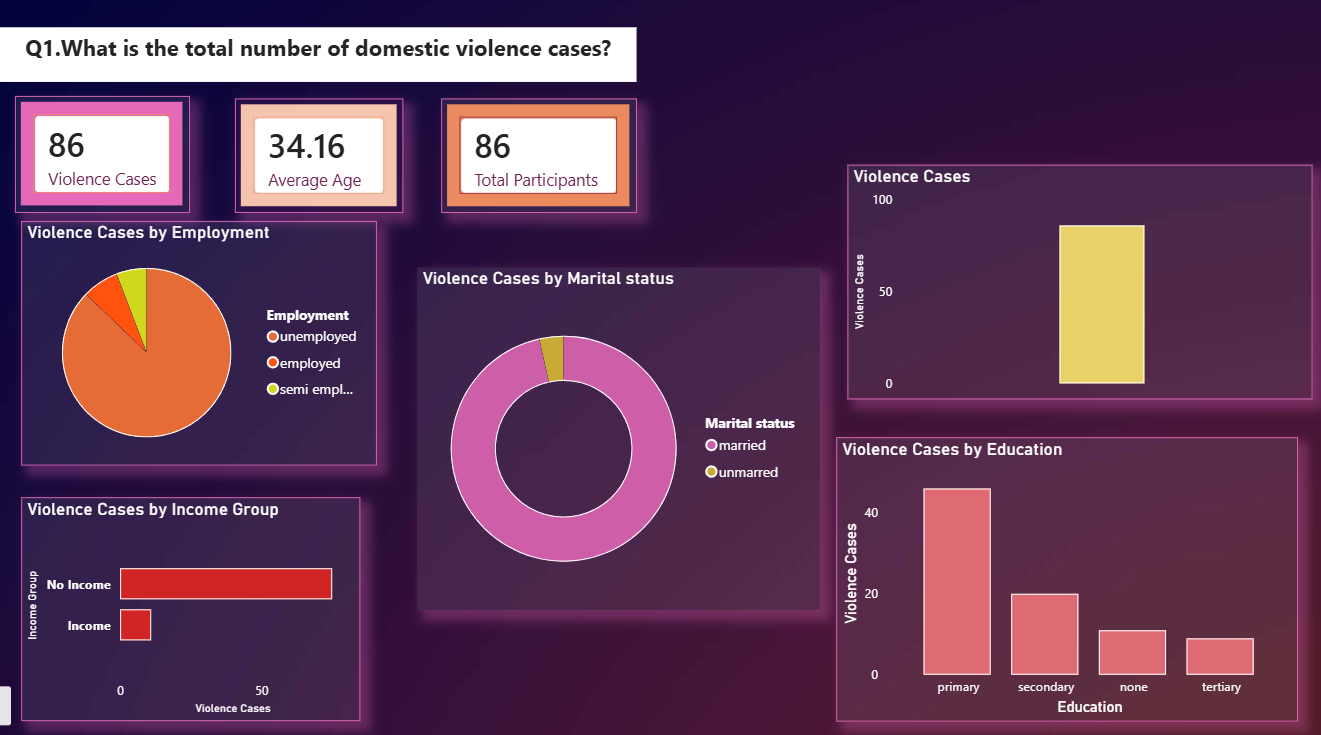

This screenshot's page, from the dashboard's own definition file:
{"tool":"powerbi","page":{"name":"Page 1","canvas":[1280,720],"ordinal":0},"visuals":[{"type":"textbox","box":[0,30,614.3,52.9],"z":0},{"type":"cardVisual","fields":{"Data":["Domestic violence.Violence Cases"]},"box":[15,96.2,168.8,112.5],"z":1},{"type":"columnChart","fields":{"Y":["Domestic violence.Violence Cases"]},"box":[817.8,163.3,448.7,226.4],"z":2},{"type":"clusteredColumnChart","fields":{"Category":["Domestic violence.Education "],"Y":["Domestic violence.Violence Cases"]},"box":[806.9,425.4,446,274.4],"z":3},{"type":"pieChart","fields":{"Category":["Domestic violence.Employment "],"Y":["Domestic violence.Violence Cases"]},"box":[20,217.1,342.9,235.7],"z":4},{"type":"donutChart","fields":{"Category":["Domestic violence.Marital status "],"Y":["Domestic violence.Violence Cases"]},"box":[402.9,261.4,388.6,331.4],"z":5},{"type":"barChart","fields":{"Category":["Domestic violence.Income Group"],"Y":["Domestic violence.Violence Cases"]},"box":[20,484.3,327.1,215.7],"z":6},{"type":"cardVisual","fields":{"Data":["Domestic violence.Average Age"]},"box":[226.2,98.8,162.5,110],"z":7},{"type":"cardVisual","fields":{"Data":["Domestic violence.Total Participants"]},"box":[425.7,98.6,188.6,110],"z":8}]}

Visuals, with their boxes in screenshot pixels (x1, y1, x2, y2), scaled from the page's 1280x720 canvas onto the 1321x735 screenshot:
textbox: <box>0,31,634,85</box>
cardVisual - Domestic violence.Violence Cases: <box>15,98,190,213</box>
columnChart - Domestic violence.Violence Cases: <box>844,167,1307,398</box>
clusteredColumnChart - Domestic violence.Education  x Domestic violence.Violence Cases: <box>833,434,1293,714</box>
pieChart - Domestic violence.Employment  x Domestic violence.Violence Cases: <box>21,222,375,462</box>
donutChart - Domestic violence.Marital status  x Domestic violence.Violence Cases: <box>416,267,817,605</box>
barChart - Domestic violence.Income Group x Domestic violence.Violence Cases: <box>21,494,358,715</box>
cardVisual - Domestic violence.Average Age: <box>233,101,401,213</box>
cardVisual - Domestic violence.Total Participants: <box>439,101,634,213</box>
